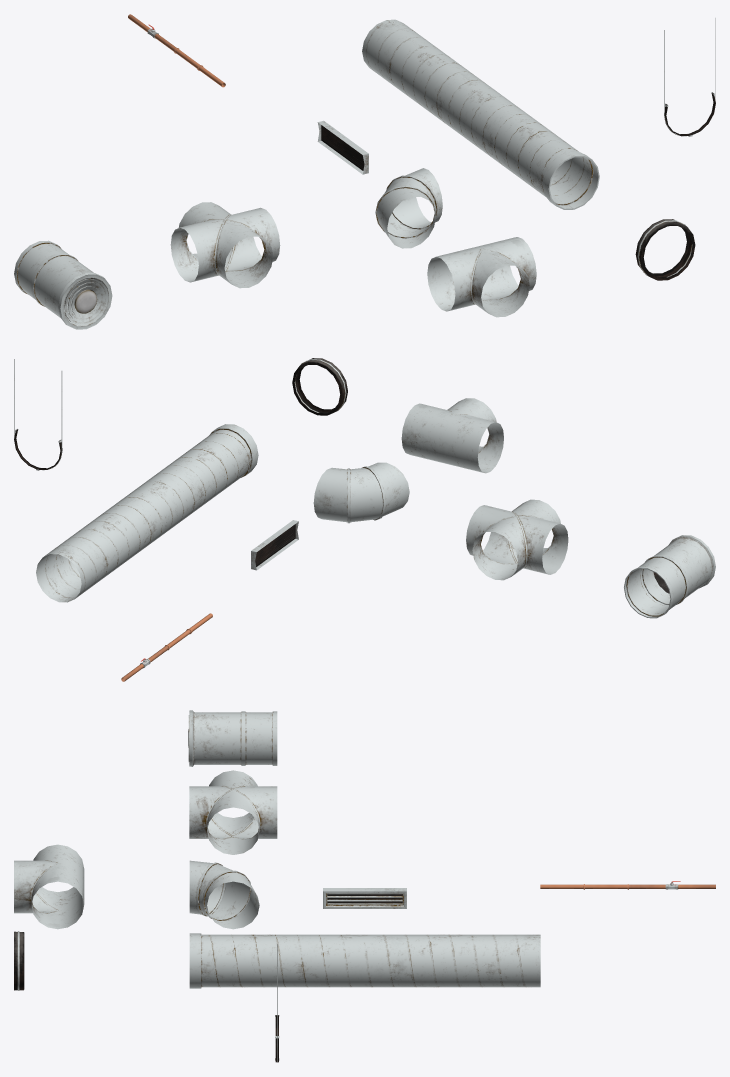
File: air_duct_kit.glb
The picture shows the model from 3 angles, top to bottom: view 1: azimuth 30°, elevation 25°; view 2: azimuth 150°, elevation 25°; view 3: azimuth 270°, elevation 25°; orthographic projection. The views are drawn at different scales.
Visible parts, largest first — view 1: duct_base_low_0, duct_crossSection_low_2, duct_tSection_low_3, duct_endPart_low_4, duct_90arc_low_1, duct_isoFloor_low_7, duct_outlet_low_6, heat_pipe_low_8; view 2: duct_base_low_0, duct_crossSection_low_2, duct_tSection_low_3, duct_endPart_low_4, duct_90arc_low_1, duct_isoFloor_low_7, duct_outlet_low_6, heat_pipe_low_8; view 3: duct_base_low_0, duct_crossSection_low_2, duct_endPart_low_4, duct_tSection_low_3, duct_90arc_low_1, duct_outlet_low_6, heat_pipe_low_8, duct_isoFloor_low_7.
Boxes of the visible parts, x1,y1,x2,y2 form: duct_base_low_0: [362, 19, 599, 209]; duct_crossSection_low_2: [170, 202, 280, 288]; duct_tSection_low_3: [427, 237, 536, 317]; duct_endPart_low_4: [14, 240, 112, 329]; duct_90arc_low_1: [375, 168, 442, 248]; duct_isoFloor_low_7: [635, 219, 695, 280]; duct_outlet_low_6: [317, 120, 368, 174]; heat_pipe_low_8: [128, 14, 225, 87]; duct_base_low_0: [36, 424, 258, 602]; duct_crossSection_low_2: [466, 499, 568, 580]; duct_tSection_low_3: [401, 398, 503, 473]; duct_endPart_low_4: [624, 535, 715, 618]; duct_90arc_low_1: [313, 462, 409, 523]; duct_isoFloor_low_7: [292, 358, 347, 415]; duct_outlet_low_6: [251, 520, 298, 570]; heat_pipe_low_8: [121, 613, 212, 681]; duct_base_low_0: [189, 933, 540, 988]; duct_crossSection_low_2: [189, 770, 277, 854]; duct_endPart_low_4: [188, 710, 277, 766]; duct_tSection_low_3: [14, 844, 84, 929]; duct_90arc_low_1: [189, 860, 259, 929]; duct_outlet_low_6: [323, 888, 406, 908]; heat_pipe_low_8: [540, 884, 715, 889]; duct_isoFloor_low_7: [14, 931, 24, 990].
Bounding box in the file's own units: 4.32 × 0.6713 × 4.
1 material, 1 textured.
